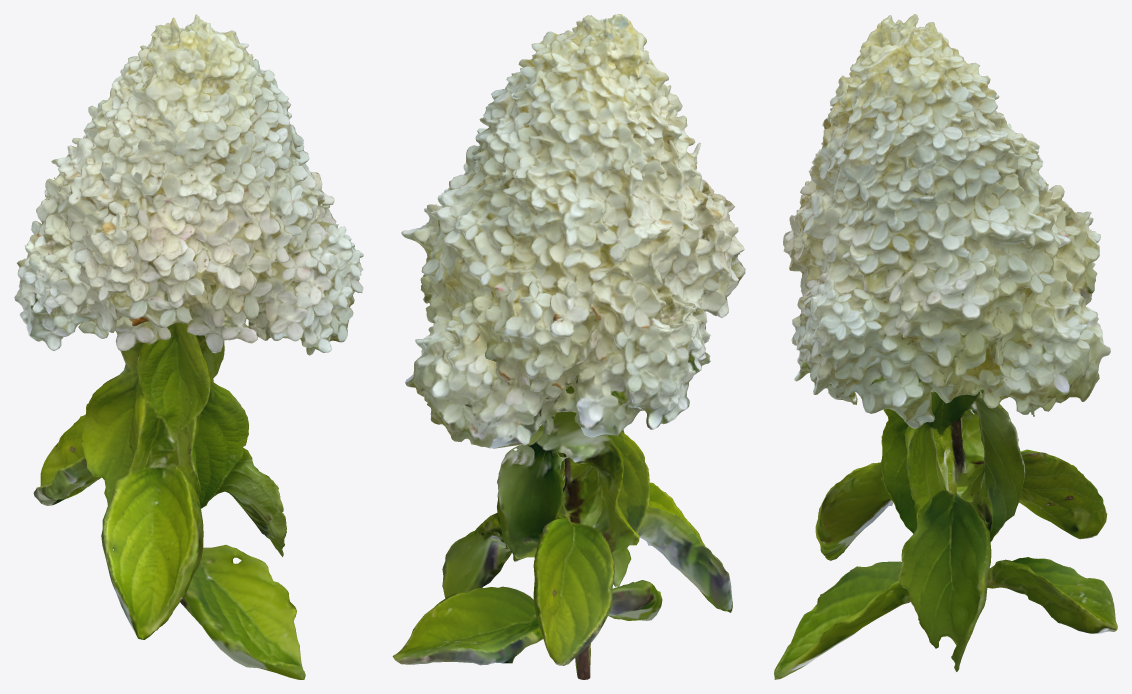
The model's file is paniculata.glb.
3 views of the same model, side by side, from view 1: azimuth 30°, elevation 25°; view 2: azimuth 150°, elevation 25°; view 3: azimuth 270°, elevation 25° (orthographic). The views are drawn at different scales.
Visible parts, largest first — view 1: Object_2; view 2: Object_2; view 3: Object_2.
Boxes of the visible parts, x1,y1,x2,y2 form: Object_2: (14, 14, 363, 679); Object_2: (392, 14, 745, 679); Object_2: (774, 14, 1117, 679).
Bounding box in the file's own units: 0.1837 × 0.3895 × 0.191.
1 material, 1 textured.
